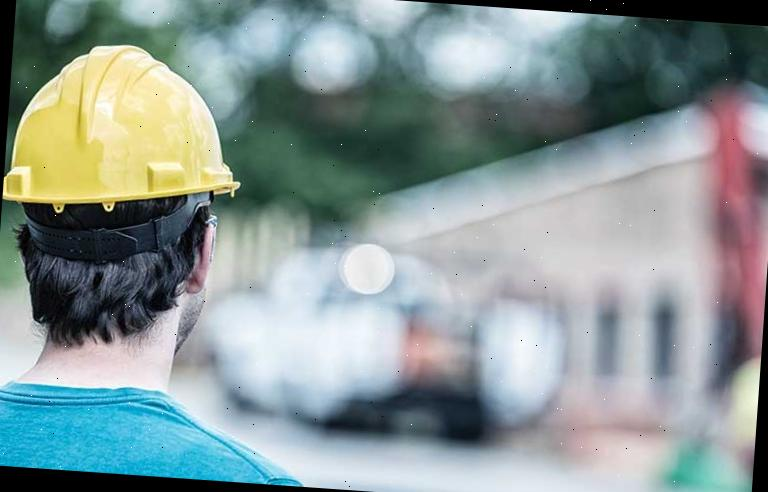helmet: (2, 39, 248, 225)
no_wear: (0, 358, 325, 488)
